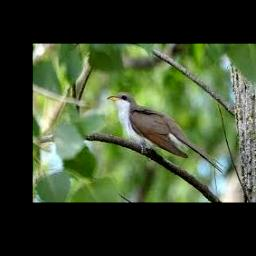Cuckoo: (107, 92, 225, 173)
